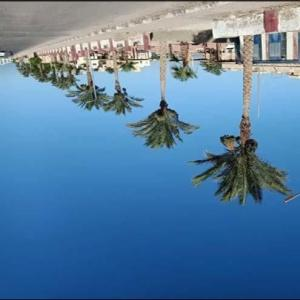palm tree: (188, 35, 296, 206), (127, 38, 199, 149), (66, 47, 108, 111)
